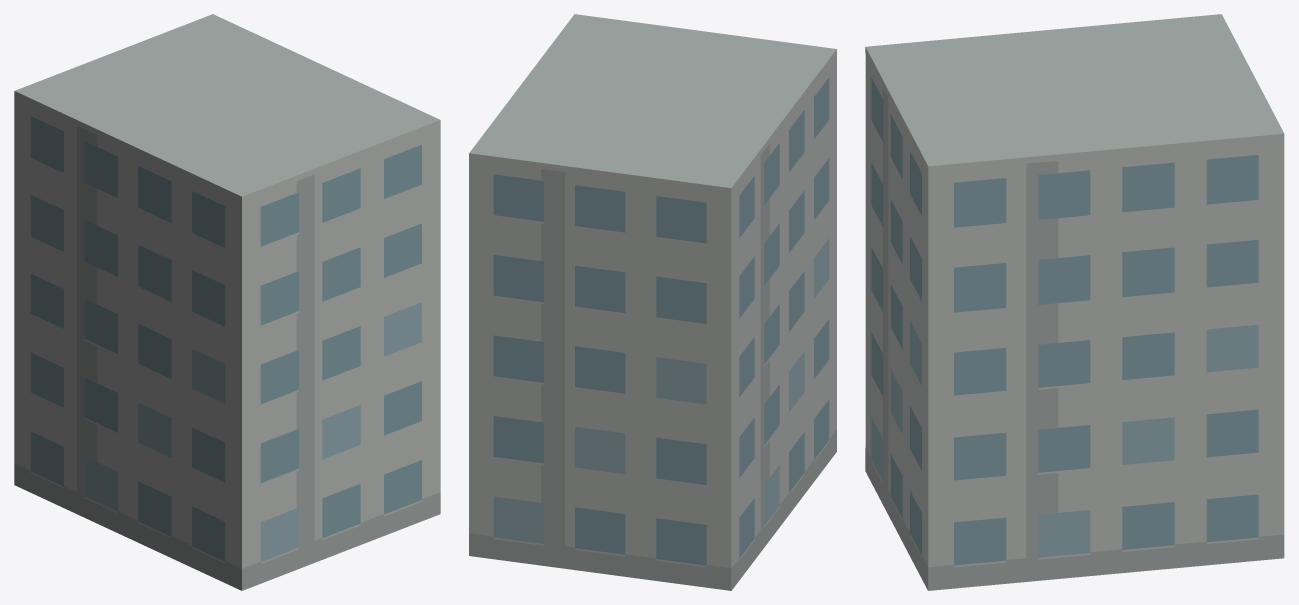
File: survey-upis-33045961.glb
The picture shows the model from 3 angles, left to right: view 1: azimuth 30°, elevation 25°; view 2: azimuth 150°, elevation 25°; view 3: azimuth 270°, elevation 25°; orthographic projection. The views are drawn at different scales.
Visible parts, largest first — view 1: survey-upis-33045961.tmp; view 2: survey-upis-33045961.tmp; view 3: survey-upis-33045961.tmp.
Boxes of the visible parts, x1,y1,x2,y2 form: survey-upis-33045961.tmp: (14, 14, 440, 590); survey-upis-33045961.tmp: (469, 14, 836, 590); survey-upis-33045961.tmp: (865, 14, 1284, 590).
Size of the model in its own units: 12.59 by 16.35 by 14.63.
